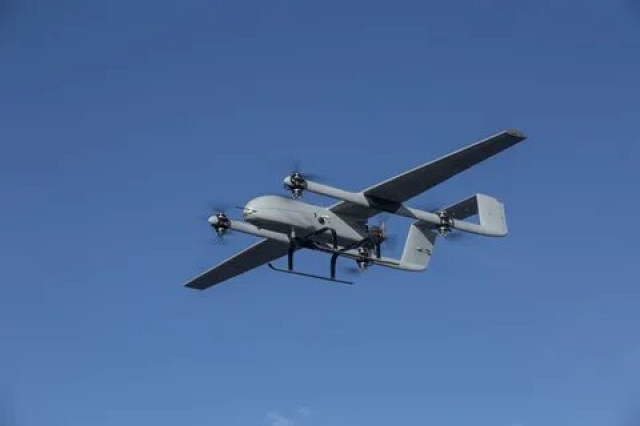military drone: (183, 128, 527, 290)
